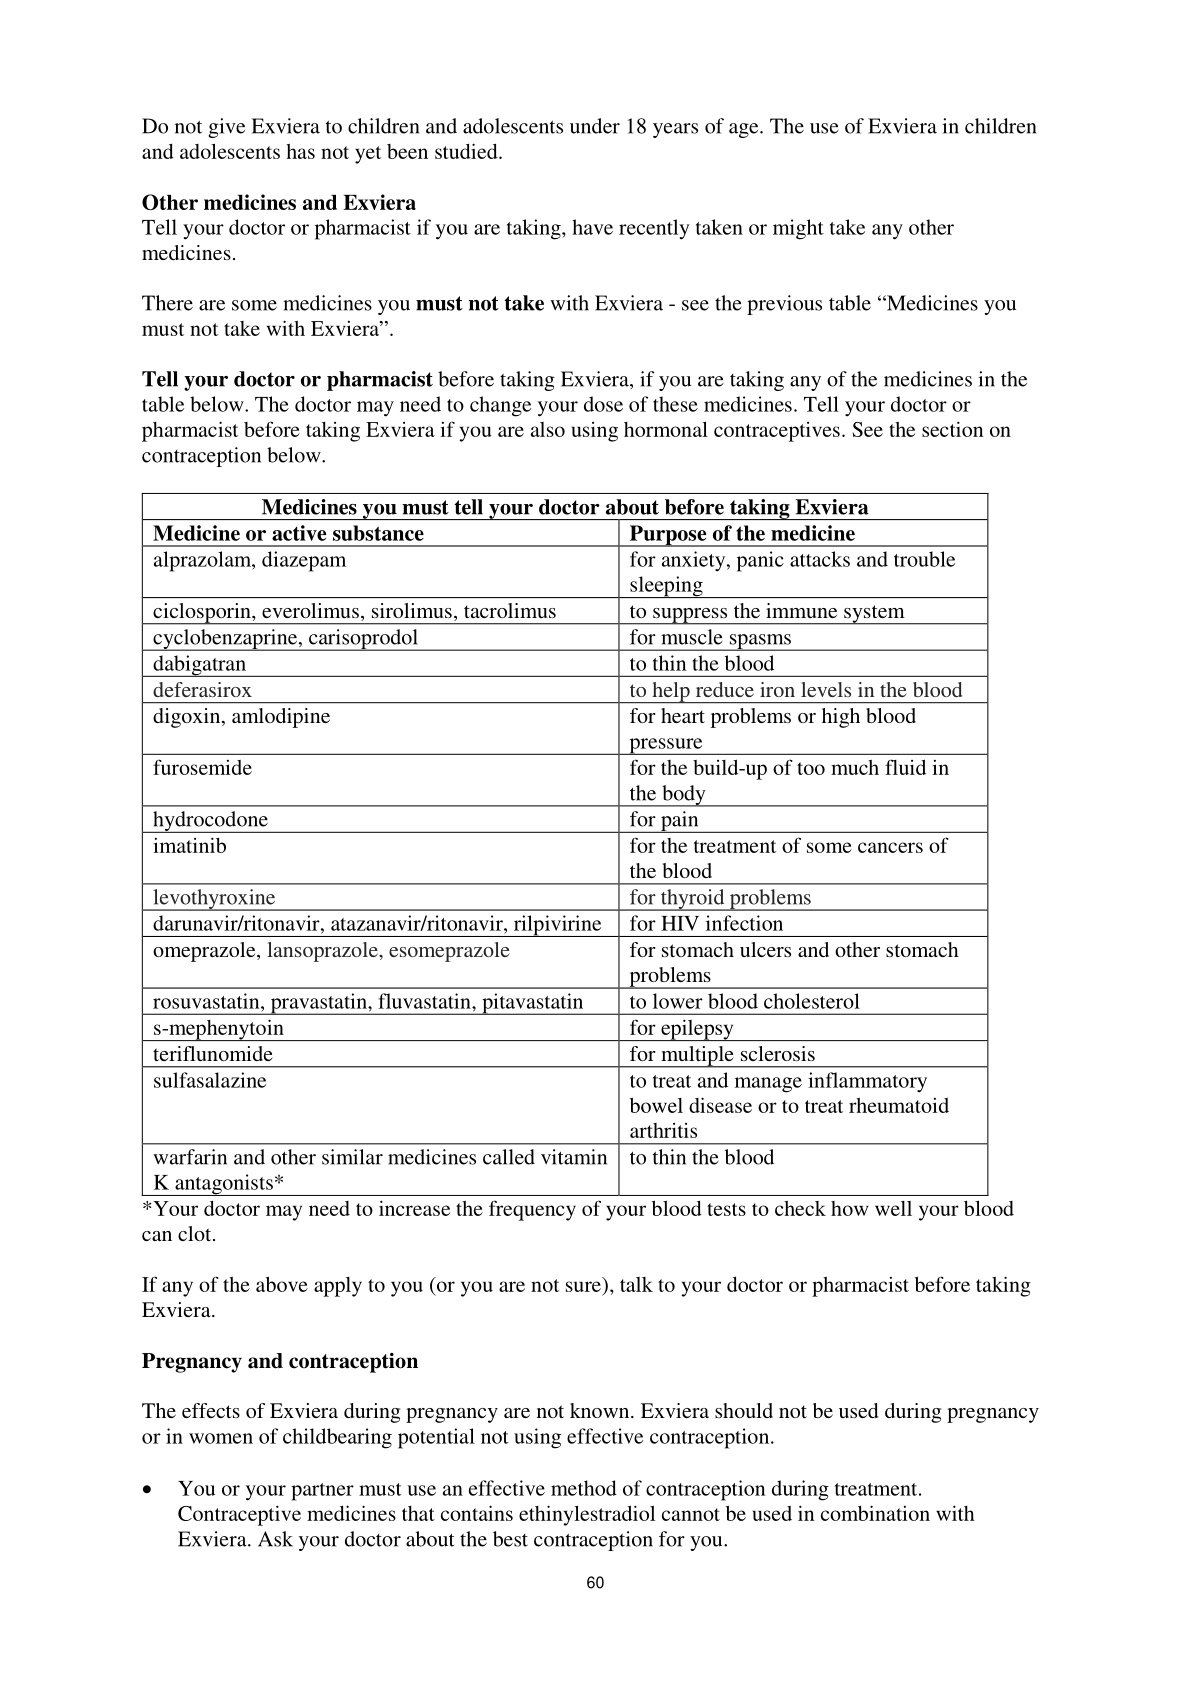merged_cells: (140, 492, 989, 1197)
